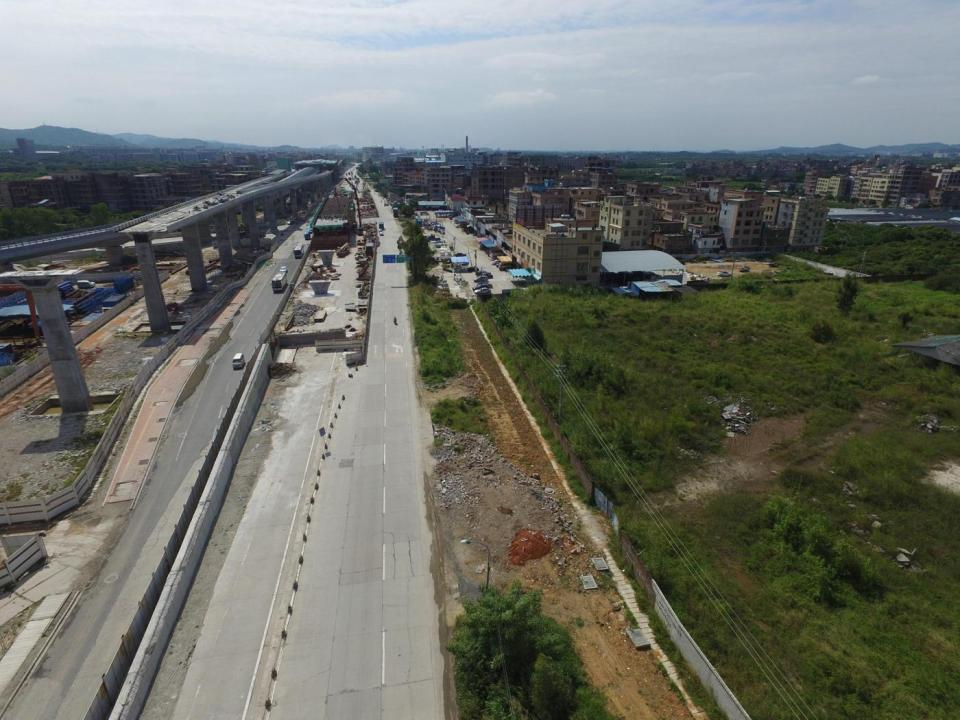bus: (270, 271, 287, 291), (294, 243, 303, 258)
car: (473, 282, 491, 289), (496, 262, 514, 268), (492, 258, 506, 265), (474, 288, 490, 294), (480, 273, 492, 279), (476, 271, 490, 276), (280, 265, 286, 273), (456, 224, 464, 227), (309, 228, 312, 233), (380, 231, 383, 236), (378, 229, 382, 232)
truck: (427, 235, 440, 242), (415, 217, 422, 228), (304, 230, 310, 240), (393, 207, 398, 217), (379, 222, 384, 229)
van: (233, 352, 244, 369), (77, 280, 94, 288), (474, 277, 487, 283), (499, 262, 510, 268), (419, 211, 429, 216), (286, 219, 294, 225), (301, 217, 305, 221)
